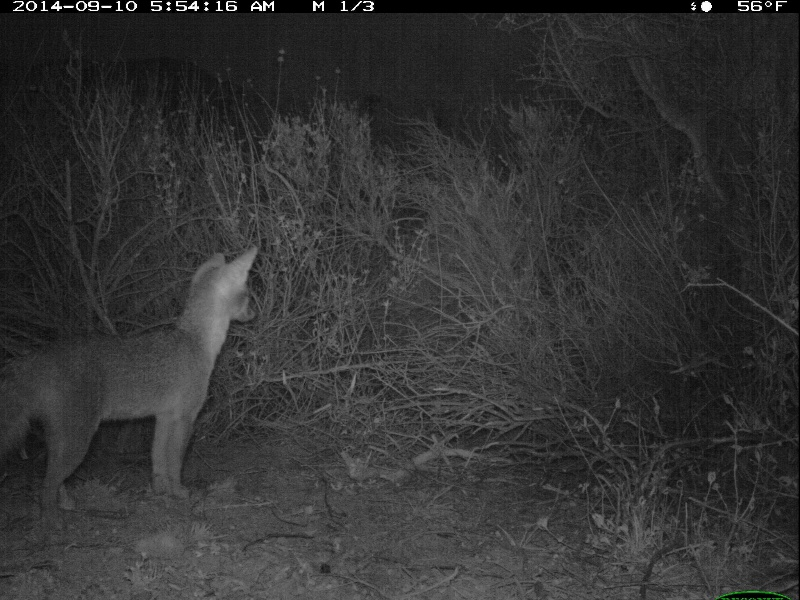fox: (1, 241, 266, 517)
